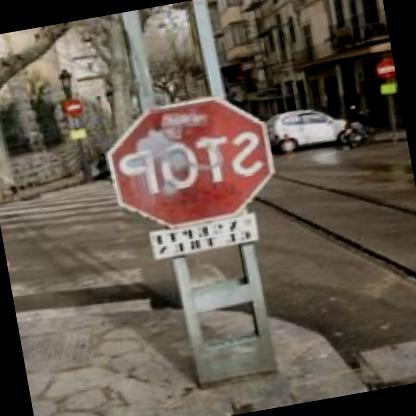stop: (100, 86, 282, 234)
